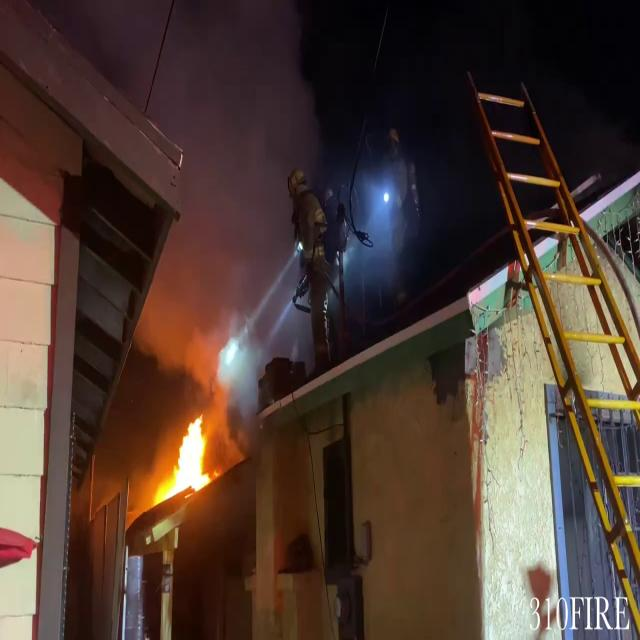Fire: (161, 410, 214, 508)
